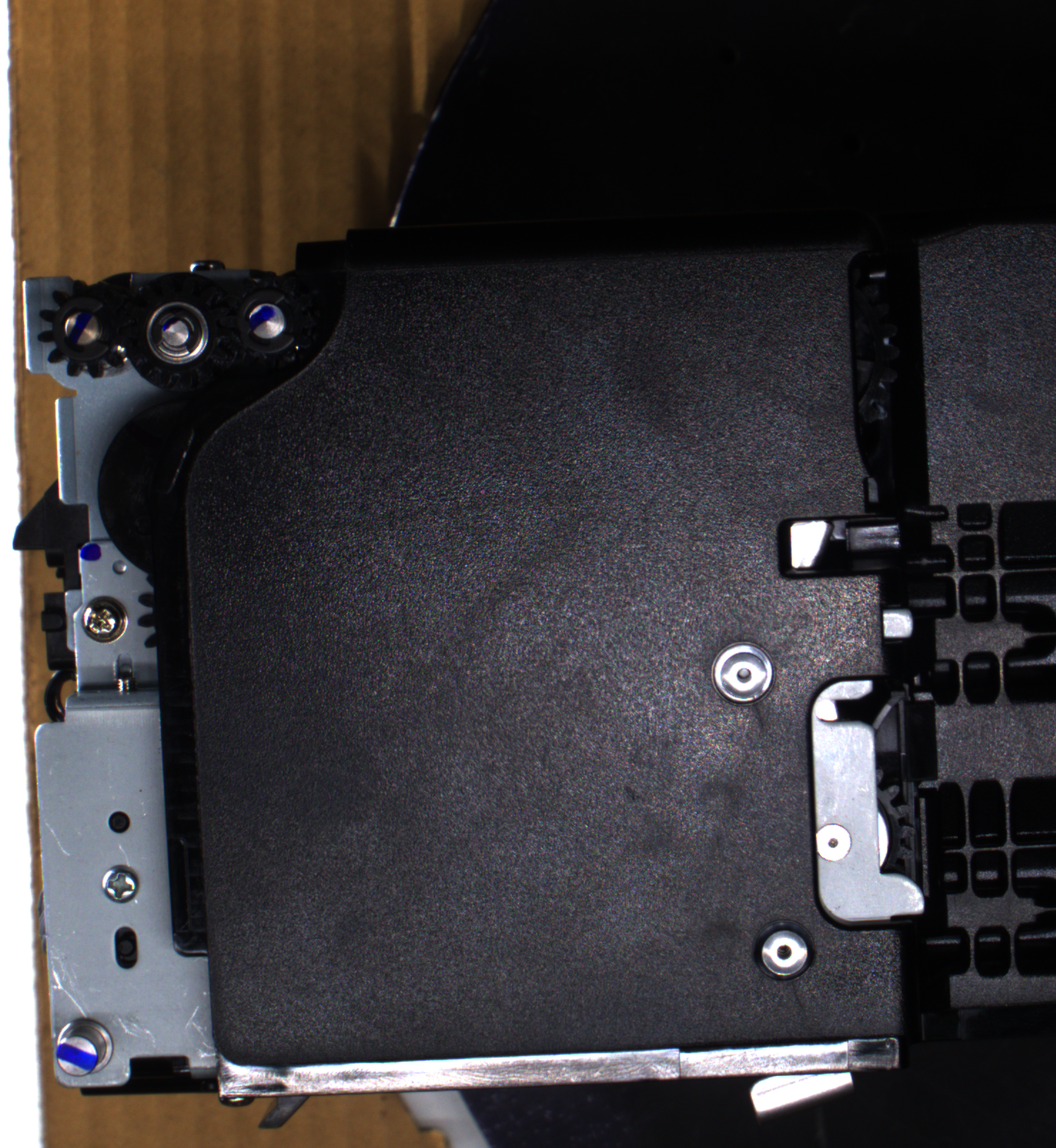centre_pin_presence: (743, 1059, 860, 1124)
centre_plate_presence: (803, 671, 936, 936)
centre_screw_presence: (707, 635, 780, 712), (747, 912, 819, 988)
gear1_presence: (36, 276, 137, 381)
gear2_presence: (120, 270, 235, 392)
gear3_presence: (217, 269, 318, 375)
side_screw_presence: (77, 593, 130, 645), (97, 863, 142, 905)
slanting_pin_presence: (52, 1014, 122, 1084)
